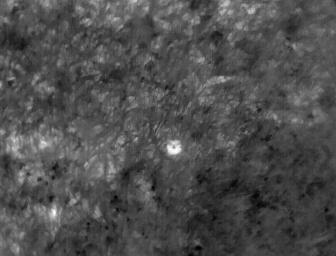landmine: (166, 139, 182, 156)
